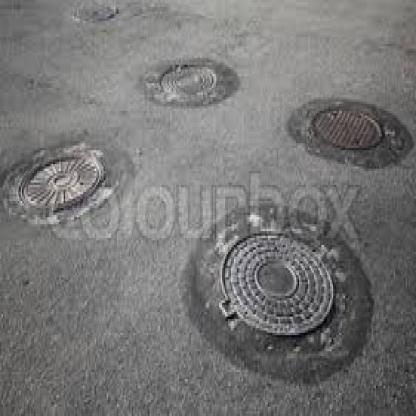manholes: (204, 217, 362, 363), (7, 130, 114, 248), (300, 90, 392, 164), (145, 44, 224, 118), (66, 2, 122, 35)
